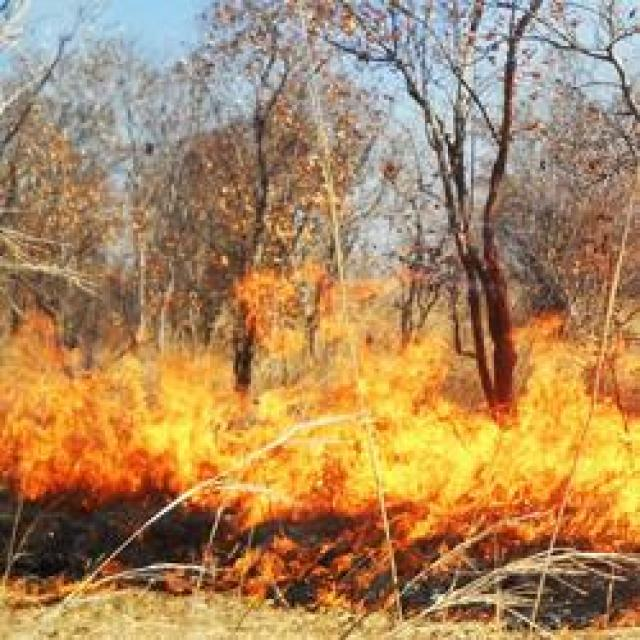fire: (0, 246, 640, 561)
